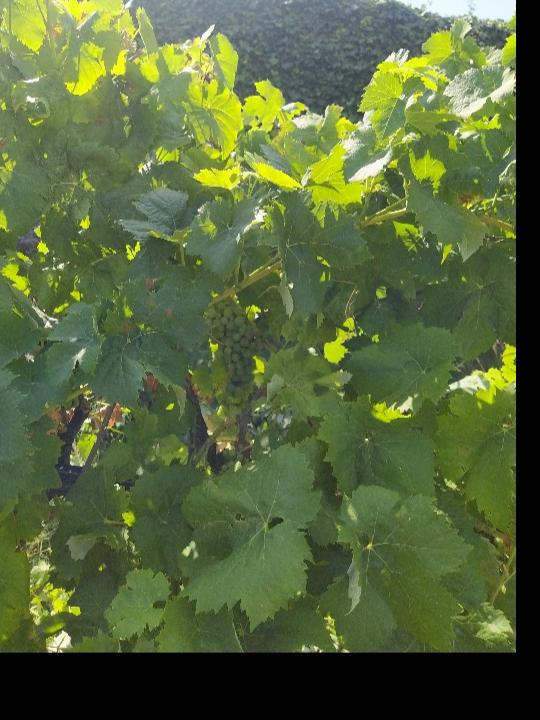grape: (204, 300, 266, 429)
